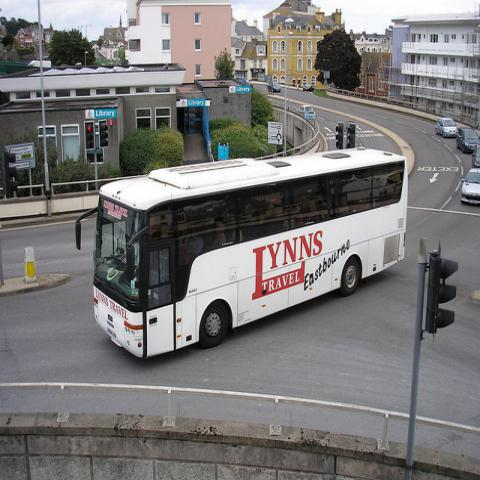bus: (74, 144, 408, 364)
car: (460, 167, 479, 206), (456, 127, 479, 153), (436, 118, 458, 138), (295, 106, 314, 115), (472, 145, 479, 169), (268, 80, 282, 92), (303, 83, 314, 92)
